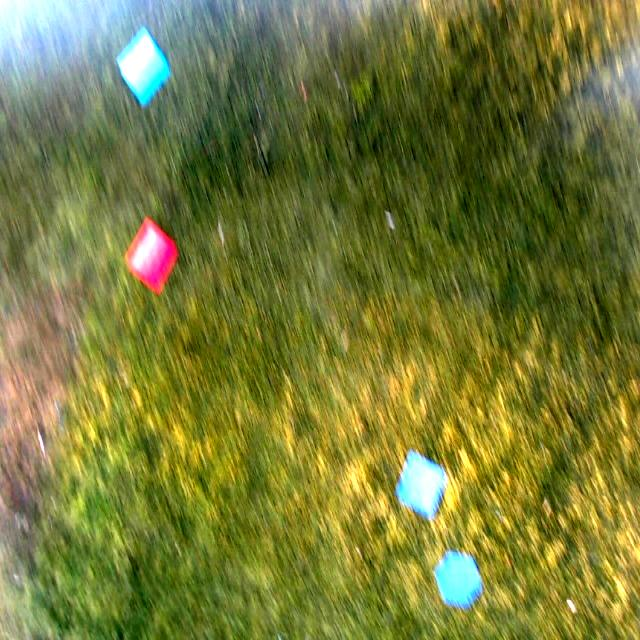blue_hexagon: (437, 550, 483, 606)
blue_square: (116, 27, 171, 105), (396, 452, 446, 519)
red_square: (125, 221, 174, 291)
